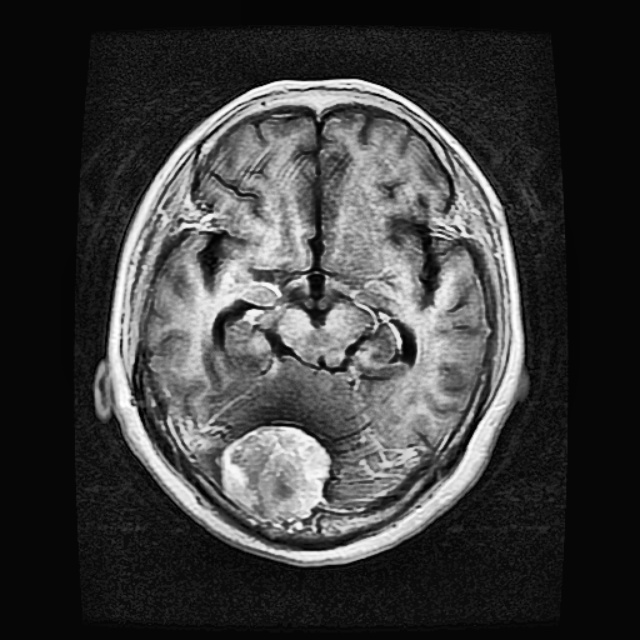Pituitary: (220, 424, 330, 522)
